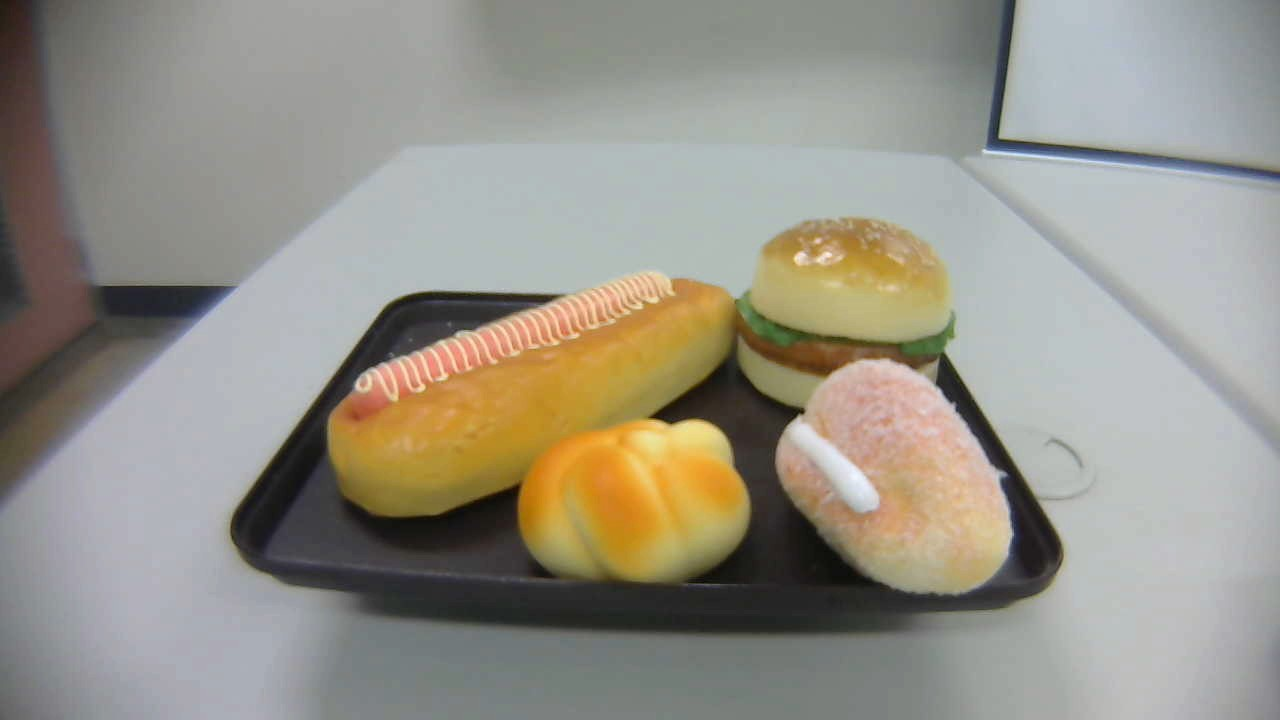coconut: (775, 358, 1015, 597)
hamburger: (735, 218, 955, 414)
hot dog: (327, 272, 737, 516)
twist bread: (515, 417, 750, 587)
